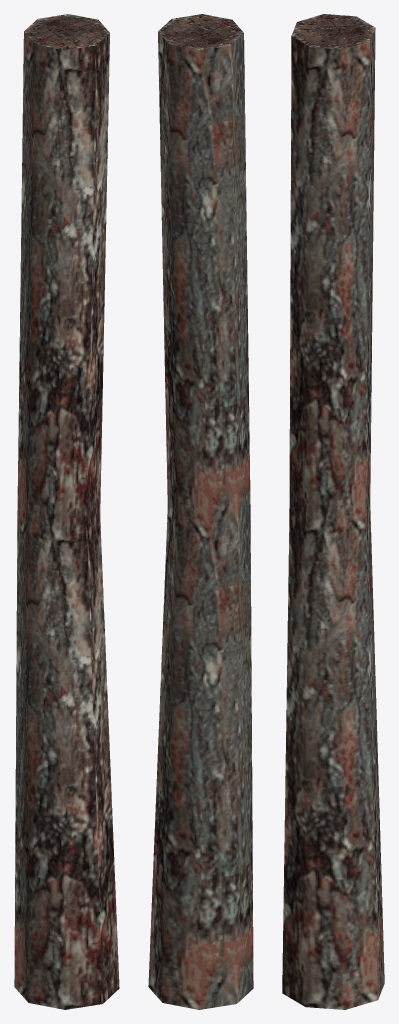
File: fp_log_2.glb
3 renders of one model, left to right at view 1: azimuth 30°, elevation 25°; view 2: azimuth 210°, elevation 25°; view 3: azimuth 270°, elevation 25°, orthographic.
Visible parts, largest first — view 1: _MeshInstance3D_28; view 2: _MeshInstance3D_28; view 3: _MeshInstance3D_28.
Part boxes in pixels (<box>): _MeshInstance3D_28: <box>14,14,119,1009</box>; _MeshInstance3D_28: <box>148,14,253,1009</box>; _MeshInstance3D_28: <box>282,14,384,1009</box>.
Bounding box in the file's own units: 0.2075 × 2.12 × 0.2063.
1 material, 1 textured.
